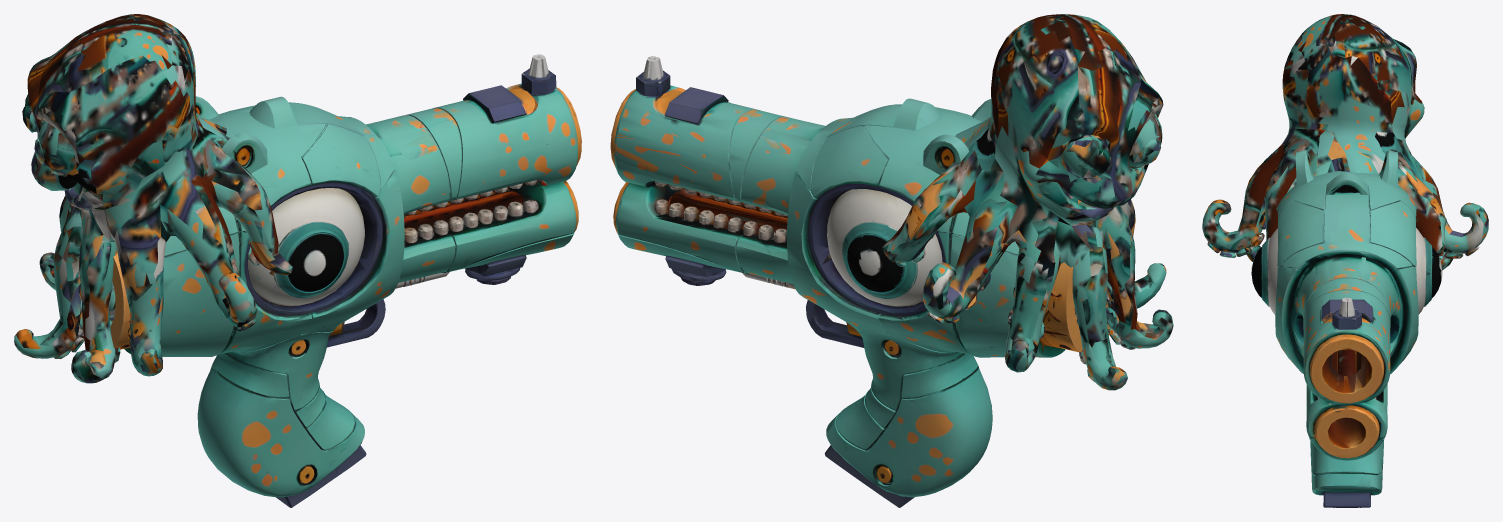
The model's file is Gun3_Octopus.fbx.
3 views of the same model, side by side, from view 1: azimuth 30°, elevation 25°; view 2: azimuth 150°, elevation 25°; view 3: azimuth 270°, elevation 25° (orthographic). The views are drawn at different scales.
Parts seen in each view (by area): view 1: texture_pbr_v128, texture_pbr_v128.001; view 2: texture_pbr_v128, texture_pbr_v128.001; view 3: texture_pbr_v128, texture_pbr_v128.001.
Boxes of the visible parts, x1,y1,x2,y2 form: texture_pbr_v128: (83,54,581,507); texture_pbr_v128.001: (14,14,292,383); texture_pbr_v128: (610,56,1110,507); texture_pbr_v128.001: (882,14,1173,390); texture_pbr_v128: (1251,150,1442,507); texture_pbr_v128.001: (1202,14,1488,270).
Size of the model in its own units: 55.36 by 51.9 by 31.68.
2 materials, 2 textured.
